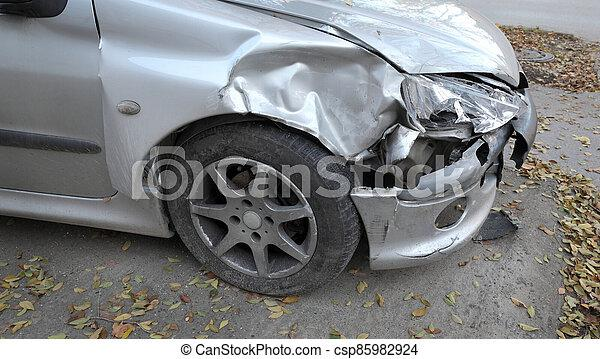Headlight-Damage: (379, 67, 535, 137)
fender-dent: (91, 33, 371, 187)
front-bumper-dent: (331, 127, 529, 274)
